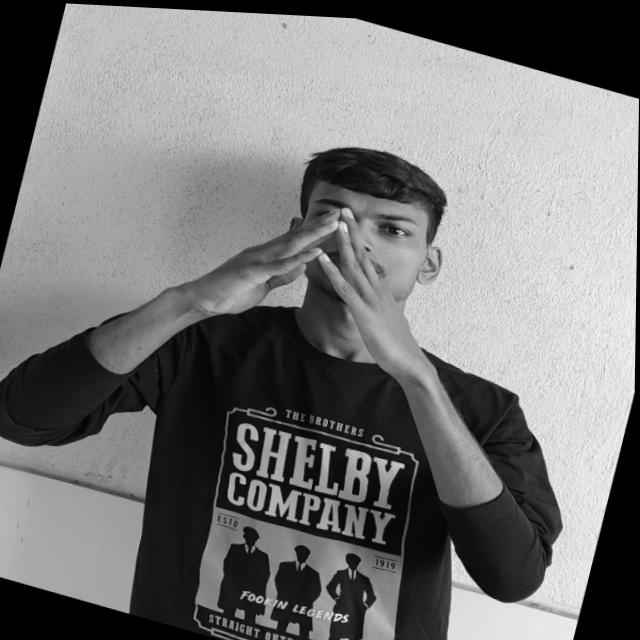Home: (200, 174, 456, 375)
